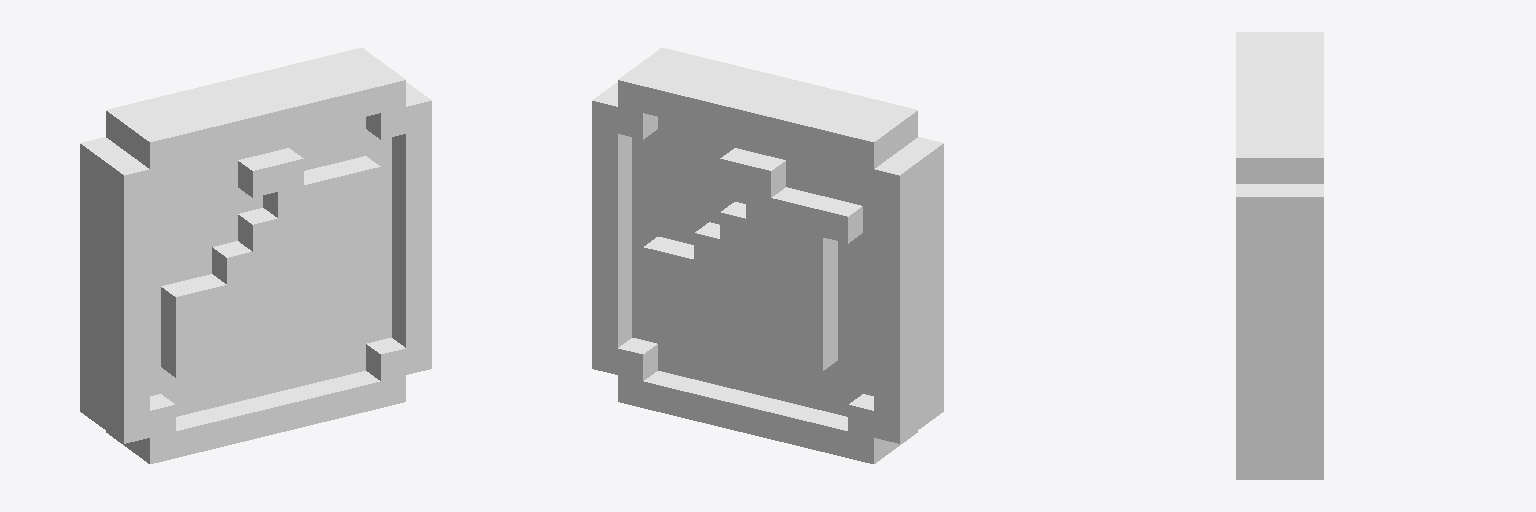
File: Velocidad_Up.obj
3 views of the same model, side by side, from view 1: azimuth 30°, elevation 25°; view 2: azimuth 150°, elevation 25°; view 3: azimuth 270°, elevation 25° (orthographic).
Bounding box in the file's own units: 12 × 12 × 3.